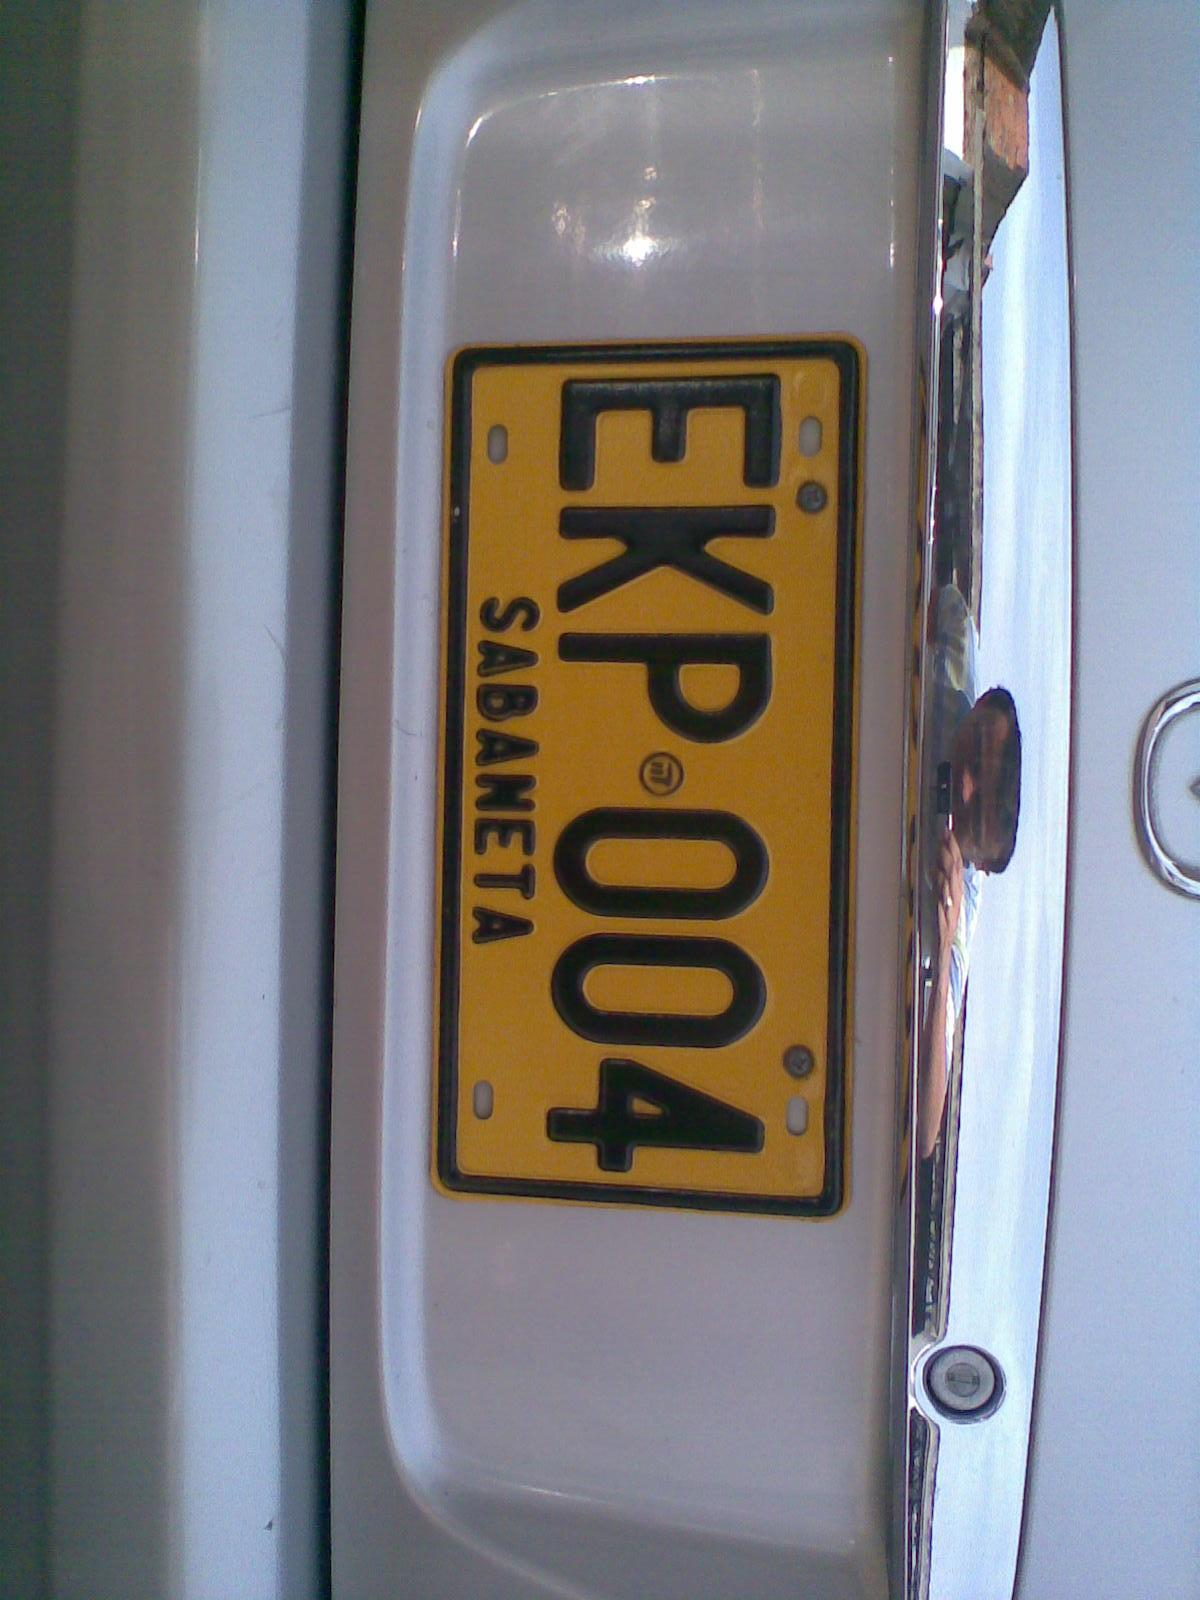placas: (422, 292, 880, 1242)
